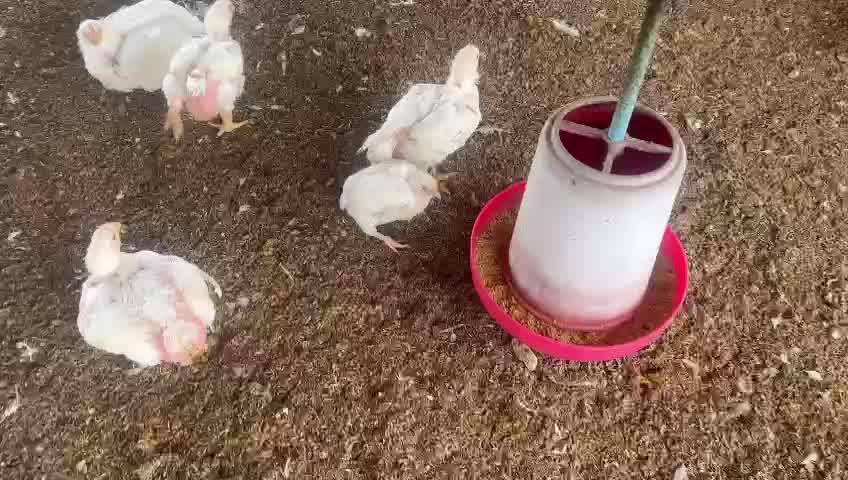AbNormal: (82, 216, 222, 363), (339, 159, 438, 253)
Normal: (365, 44, 480, 168), (164, 2, 248, 138)
